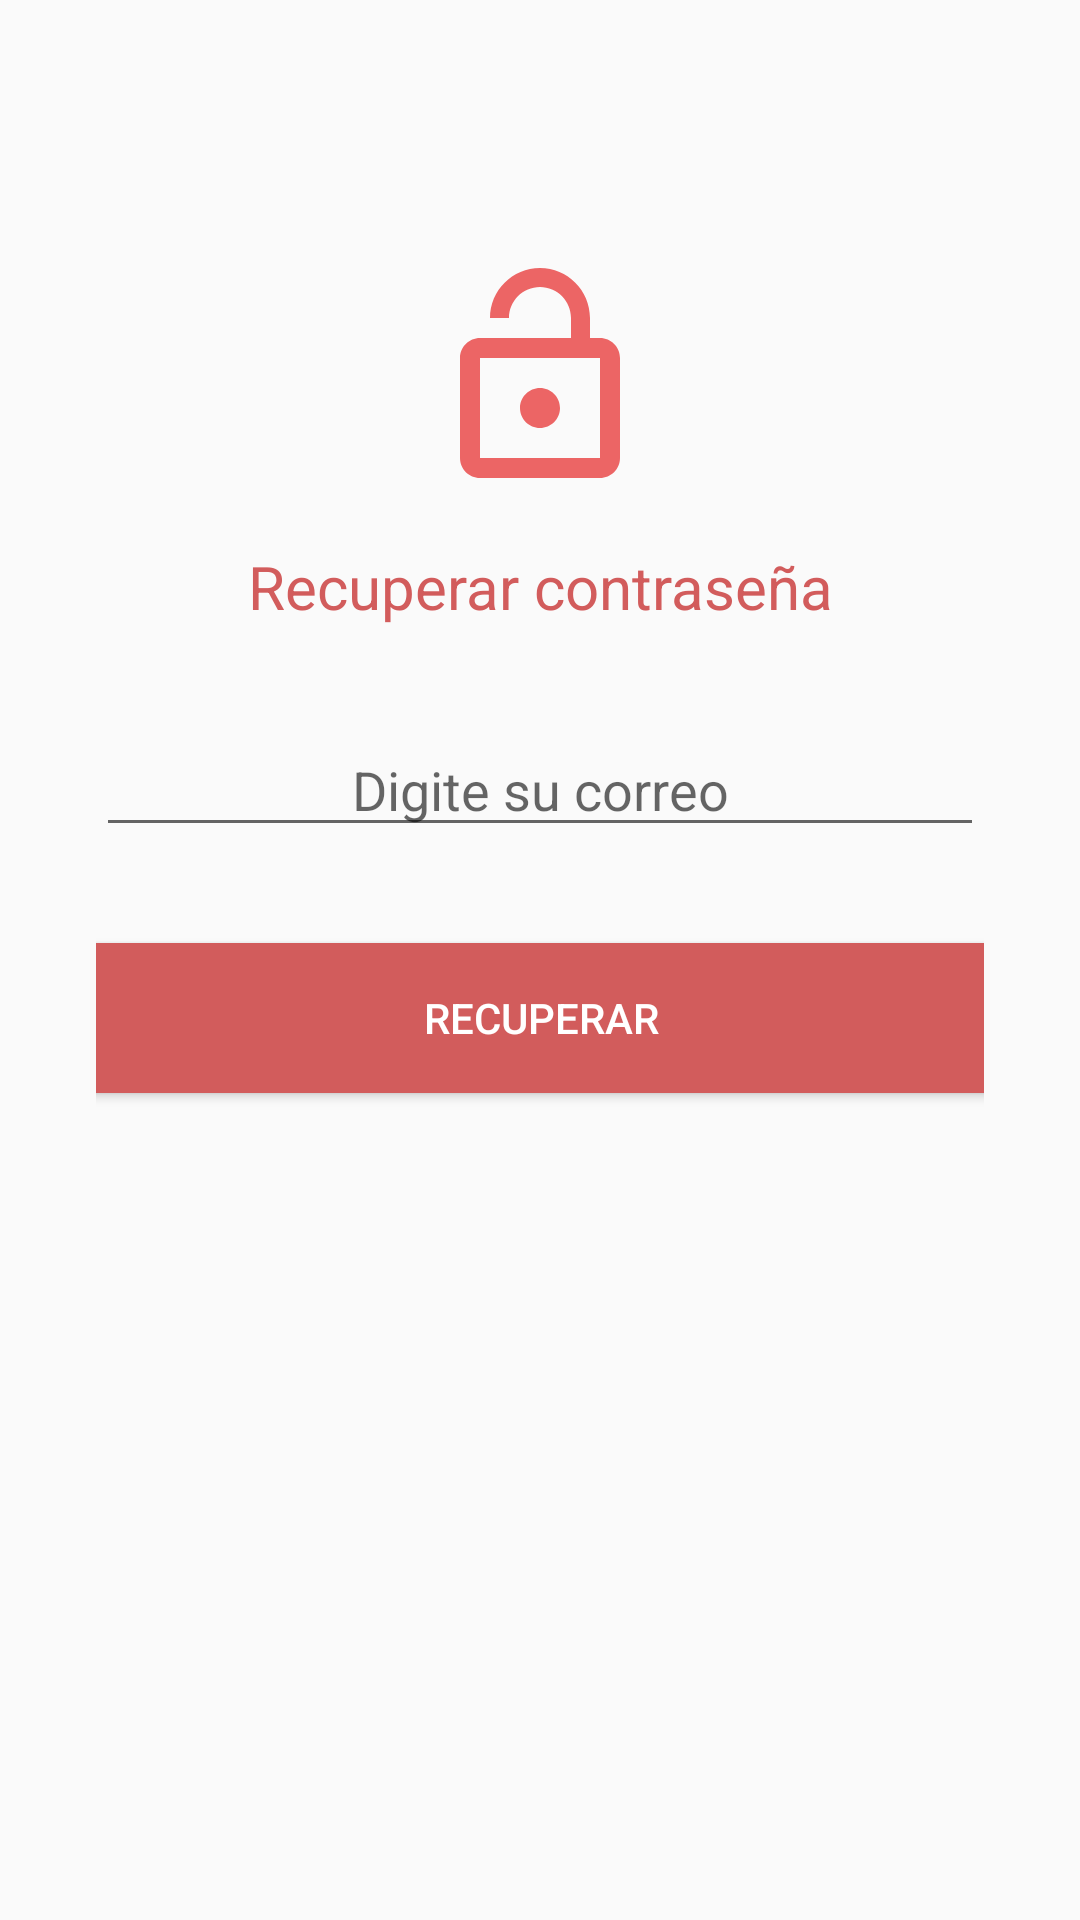

Icons on this 1080x1920 Android screen, each with the point to tap as [x,y]:
lost pass: [540,373]
